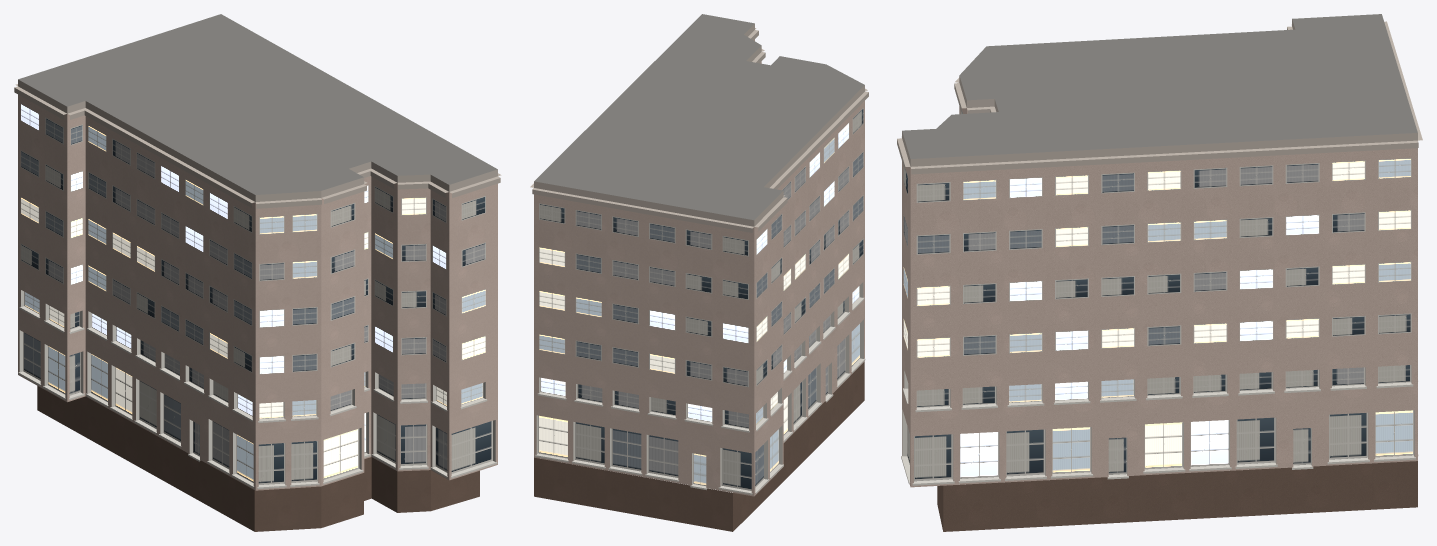
The model's file is z3b_sihlfeld_pink.glb.
3 views of the same model, side by side, from view 1: azimuth 30°, elevation 25°; view 2: azimuth 150°, elevation 25°; view 3: azimuth 270°, elevation 25° (orthographic). The views are drawn at different scales.
Visible parts, largest first — view 1: z3b_sihlfeld_pink; view 2: z3b_sihlfeld_pink; view 3: z3b_sihlfeld_pink.
Part boxes in pixels (x1,y1,x2,y2): z3b_sihlfeld_pink: [14, 14, 501, 531]; z3b_sihlfeld_pink: [530, 14, 868, 531]; z3b_sihlfeld_pink: [897, 14, 1422, 531].
Size of the model in its own units: 20.76 by 24.26 by 30.88.
3 materials, 3 textured.
